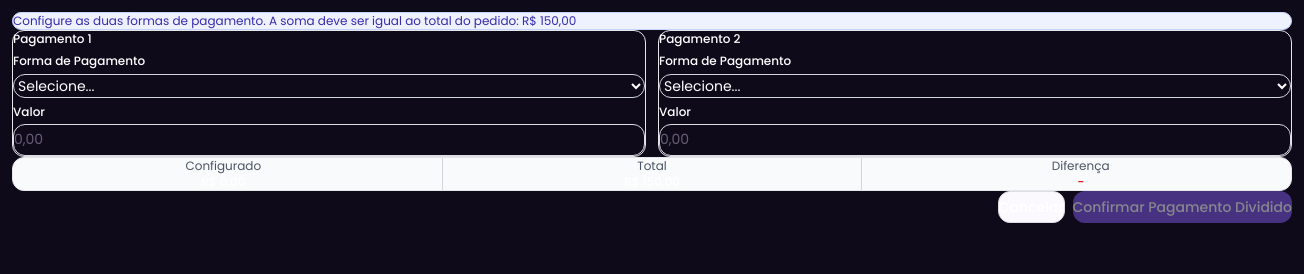
Test: PagamentoDividido Component › should format currency values correctly
In the field labelled "Valor" below "Pagamento 1": (329, 140) [13,124,645,156], type "50.50"
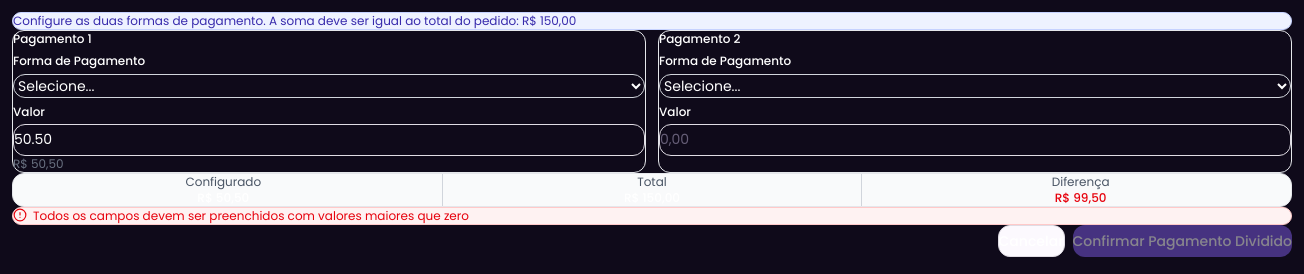
Now the text "R$ 50,50" below "Pagamento 1" is shown, box [13,155,64,172]
